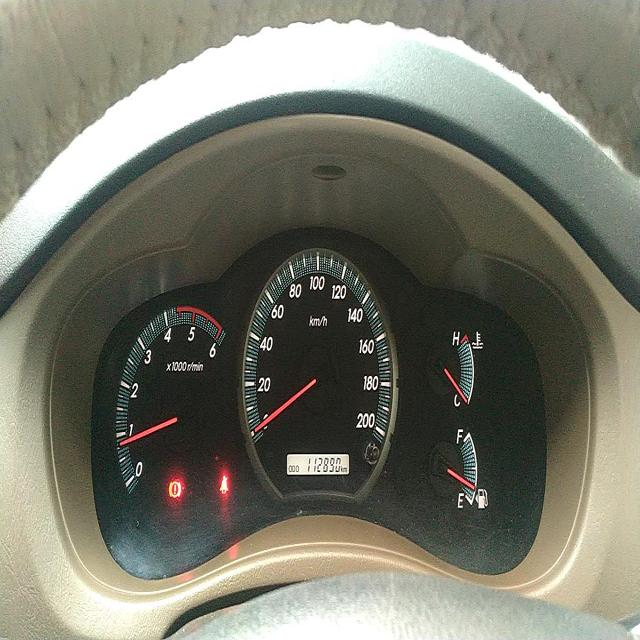odometer: (305, 454, 343, 476)
